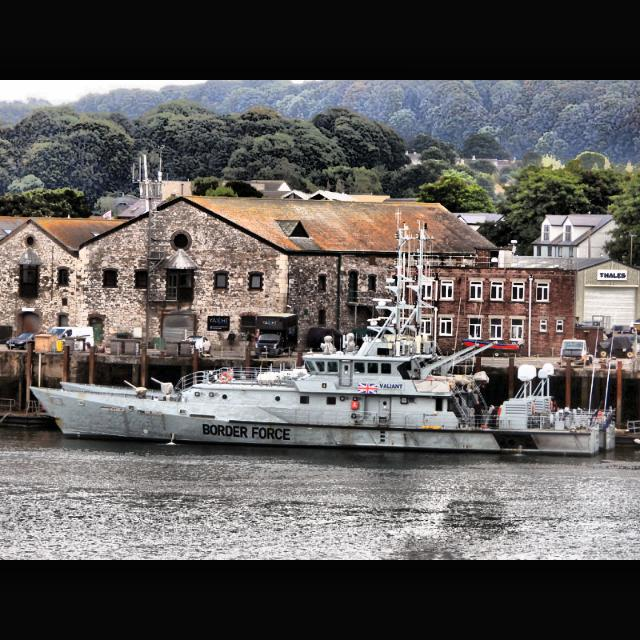patrol_vessel: (27, 331, 621, 459)
